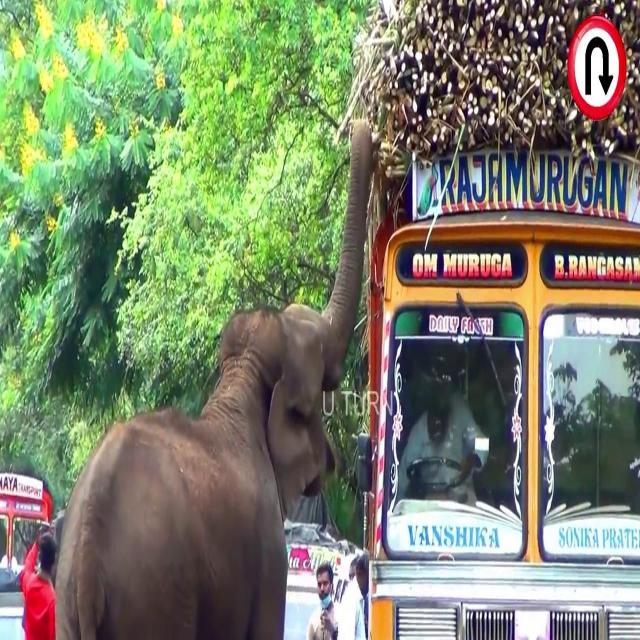Elephant: (53, 118, 376, 633)
